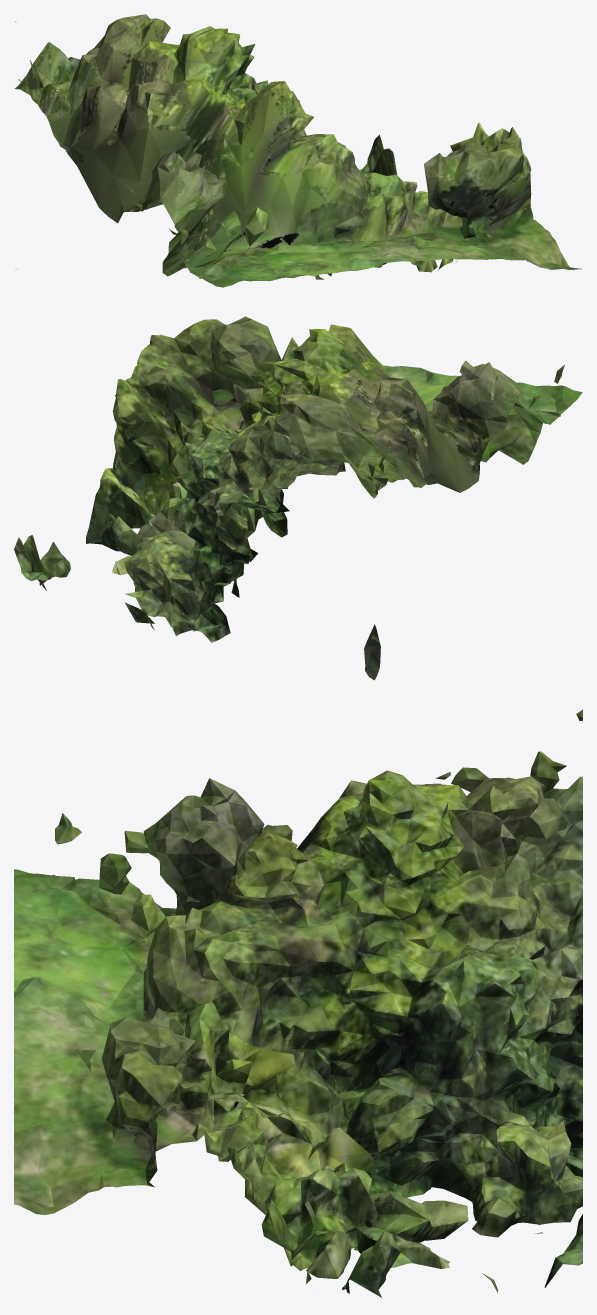
3 views of the same model, one above another, from view 1: azimuth 30°, elevation 25°; view 2: azimuth 150°, elevation 25°; view 3: azimuth 270°, elevation 25° (orthographic). The views are drawn at different scales.
Bounding box in the file's own units: 26.11 × 18.51 × 26.11.
5 materials, 5 textured.
